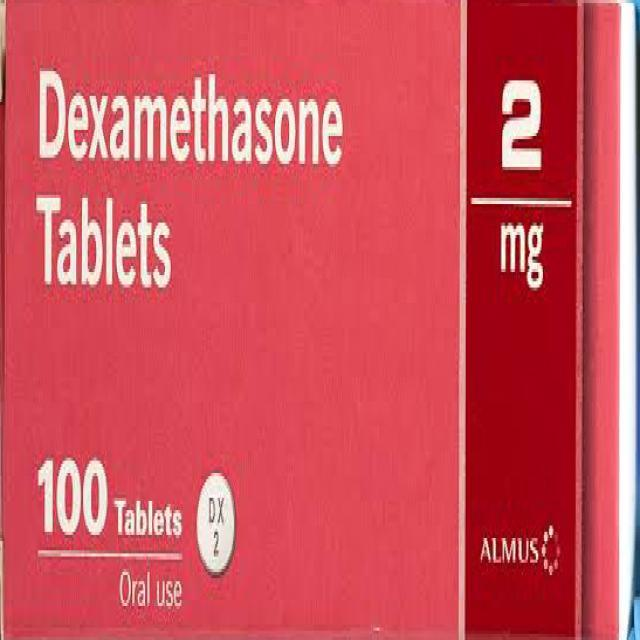drug-name: (35, 60, 344, 174)
